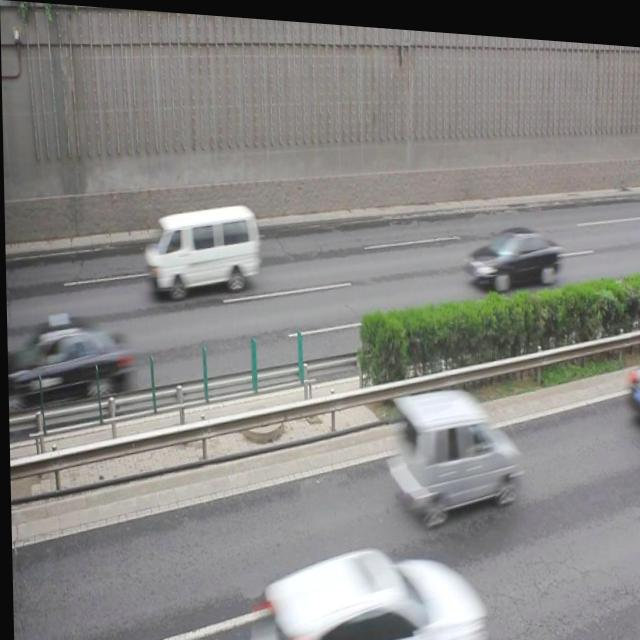car: (248, 535, 482, 640), (17, 309, 133, 411), (462, 214, 561, 288)
truck: (385, 375, 518, 519), (146, 195, 261, 300)
